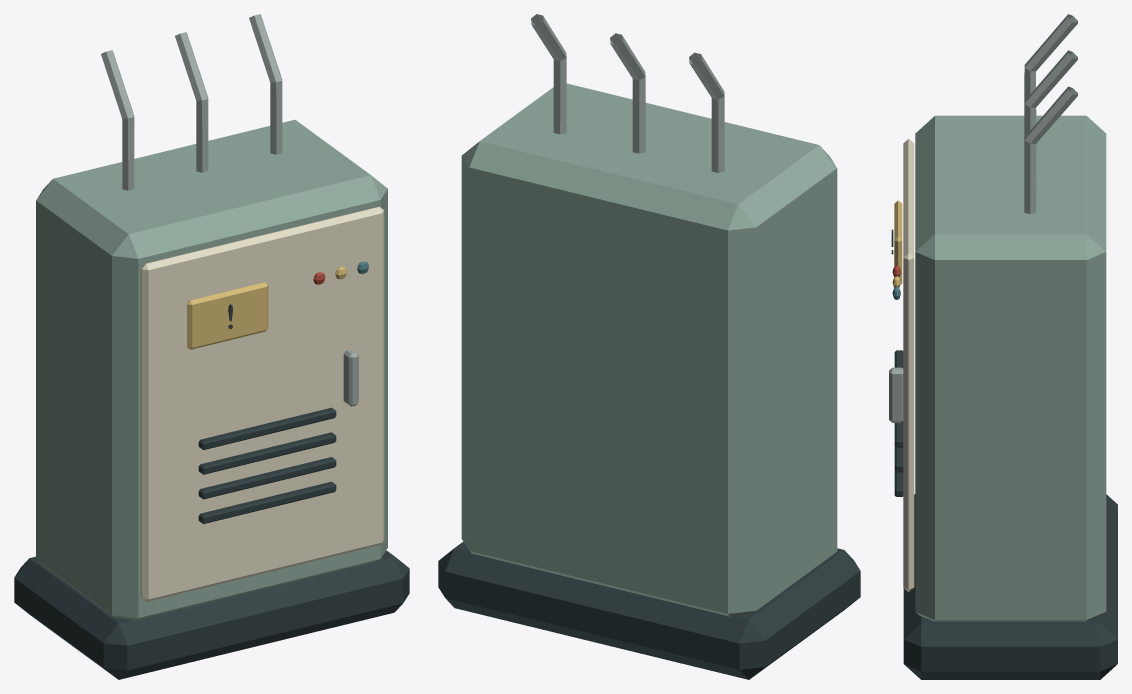
Rendered from utility_cabinet.glb.
3 views of the same model, side by side, from view 1: azimuth 30°, elevation 25°; view 2: azimuth 150°, elevation 25°; view 3: azimuth 270°, elevation 25° (orthographic). The views are drawn at different scales.
Visible parts, largest first — view 1: utility_cabinet; view 2: utility_cabinet; view 3: utility_cabinet.
Part boxes in pixels (x1,y1,x2,y2): utility_cabinet: (14, 14, 409, 679); utility_cabinet: (438, 14, 860, 679); utility_cabinet: (889, 14, 1117, 679).
Bounding box in the file's own units: 0.91 × 1.59 × 0.5875.
